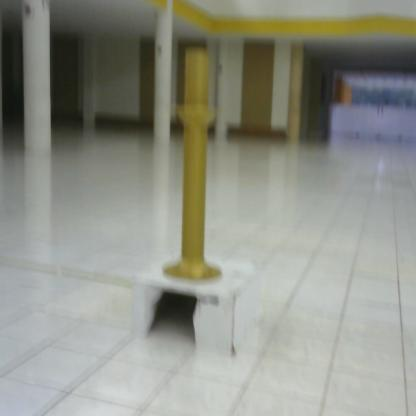pole: (159, 44, 232, 289)
